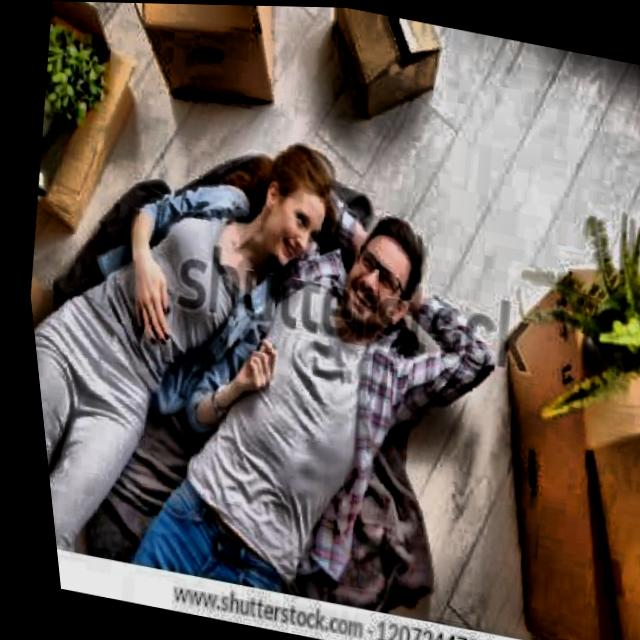Cardbox: (109, 2, 294, 120), (308, 5, 467, 129)
